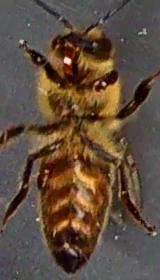varroa_mite: (16, 152, 66, 196)
